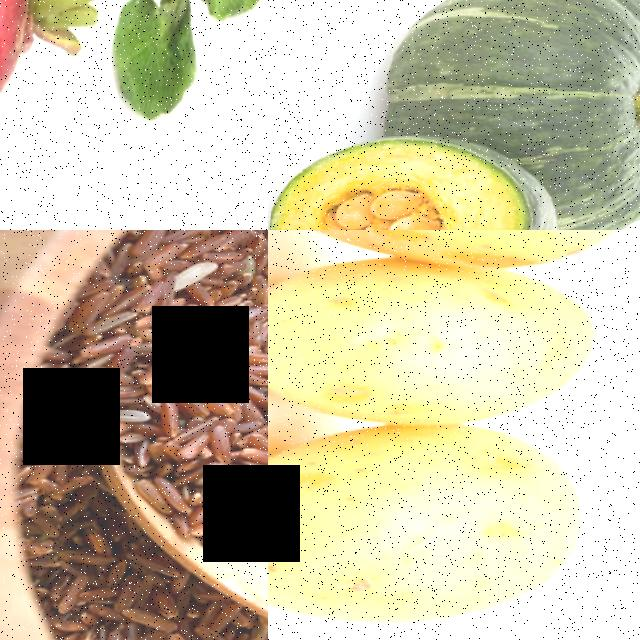potato: (268, 415, 599, 627), (268, 256, 615, 427)
pumpkin: (381, 0, 640, 146), (268, 135, 580, 230)
radishes: (0, 0, 137, 118)
red rice: (157, 326, 268, 541), (95, 230, 268, 345), (58, 568, 268, 640)
